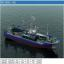fishing boat: (2, 14, 61, 50)
